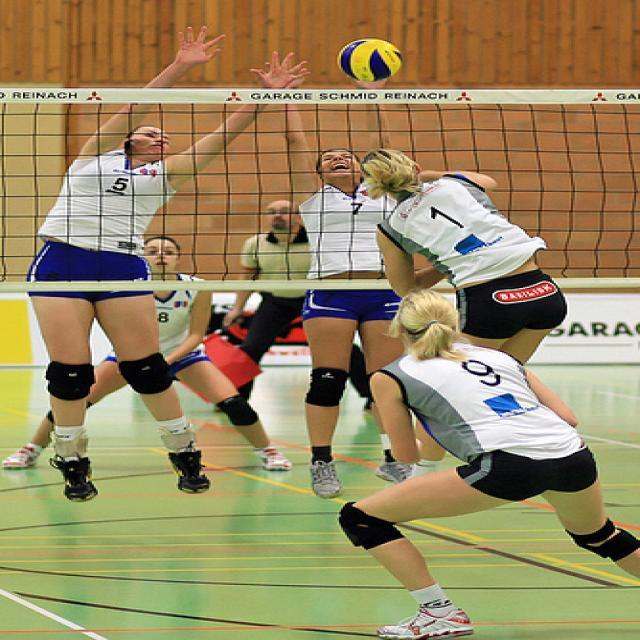volleyball: (337, 37, 402, 83)
